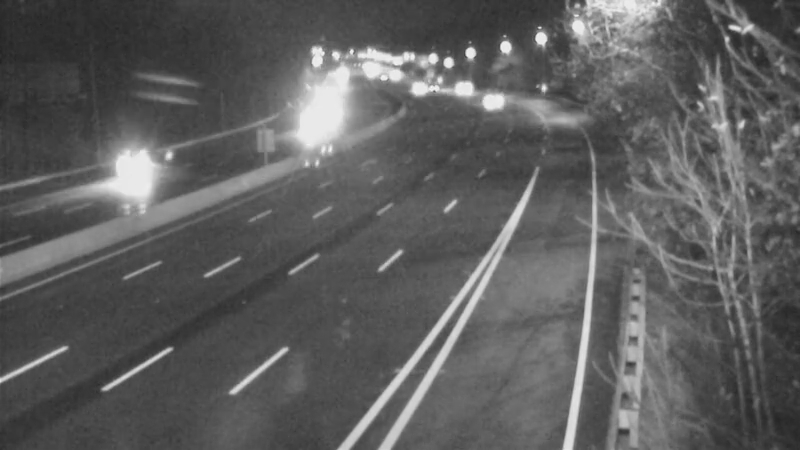vehicle: (85, 125, 165, 205), (388, 63, 438, 113), (408, 65, 458, 115), (433, 65, 483, 115), (466, 75, 516, 125)
